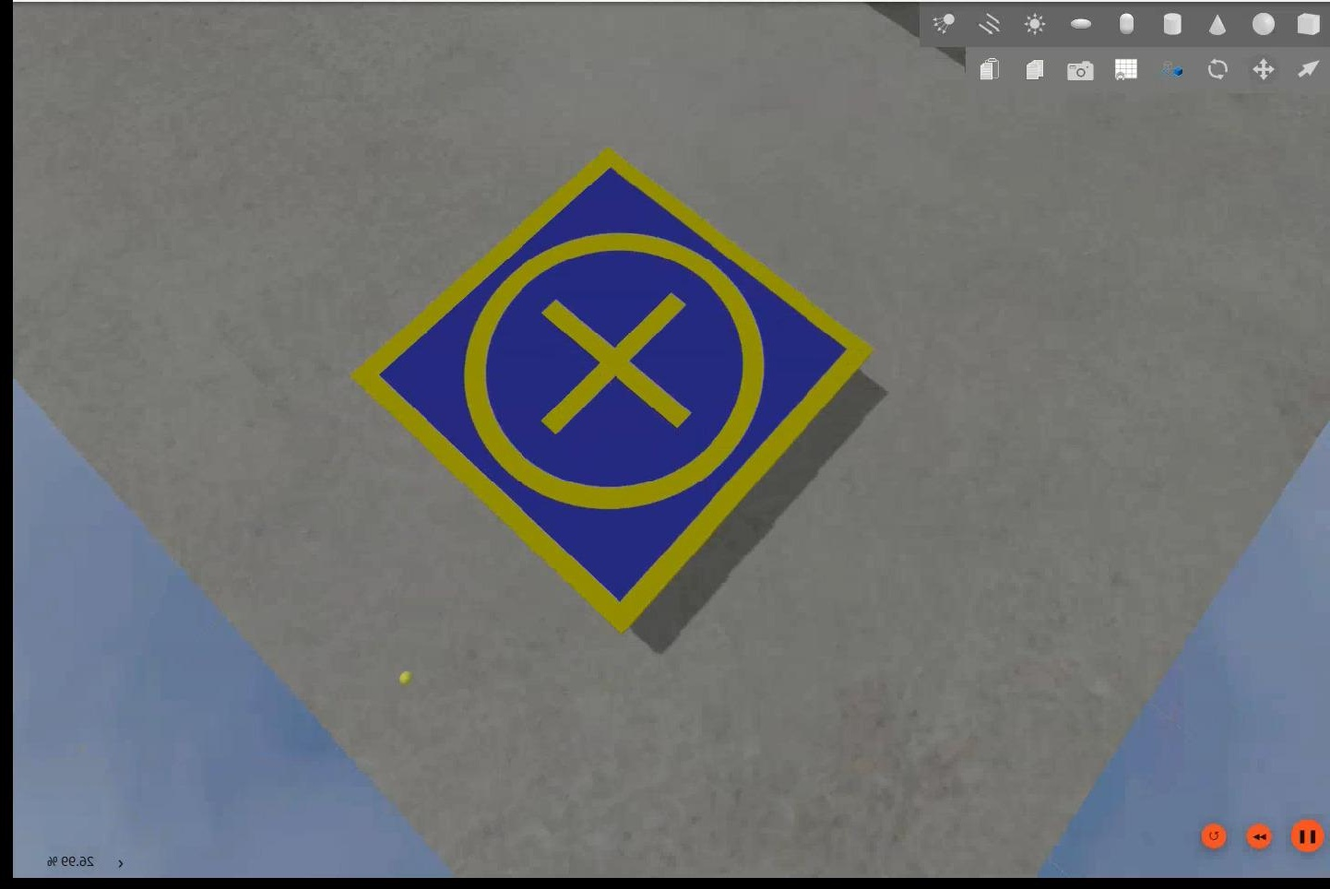small_base: (340, 150, 876, 634)
